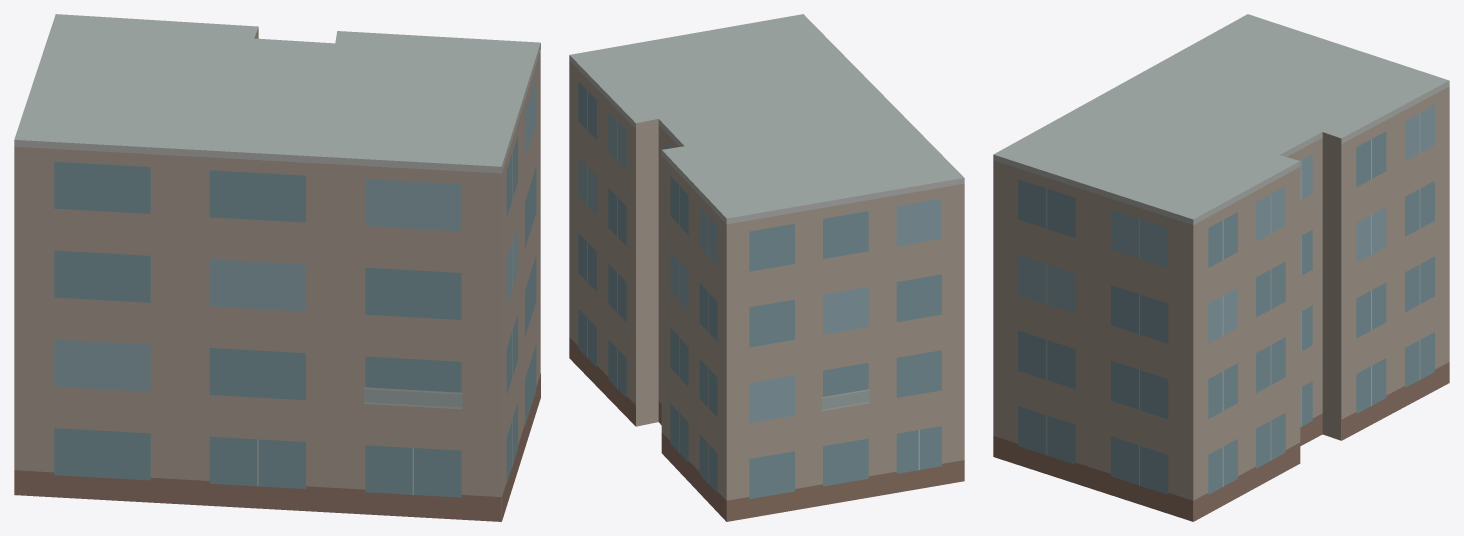
File: survey-upis-32808028.glb
The picture shows the model from 3 angles, left to right: view 1: azimuth 30°, elevation 25°; view 2: azimuth 150°, elevation 25°; view 3: azimuth 270°, elevation 25°; orthographic projection. The views are drawn at different scales.
Visible parts, largest first — view 1: survey-upis-32808028.tmp; view 2: survey-upis-32808028.tmp; view 3: survey-upis-32808028.tmp.
Boxes of the visible parts, x1=… form: survey-upis-32808028.tmp: x1=14, y1=14, x2=540, y2=521; survey-upis-32808028.tmp: x1=569, y1=14, x2=964, y2=521; survey-upis-32808028.tmp: x1=993, y1=14, x2=1449, y2=521.
Bounding box in the file's own units: 18.66 × 12.8 × 17.51.
